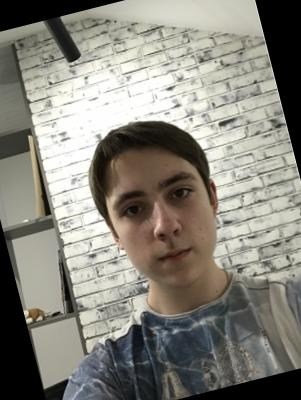without_mask: (102, 161, 230, 300)
